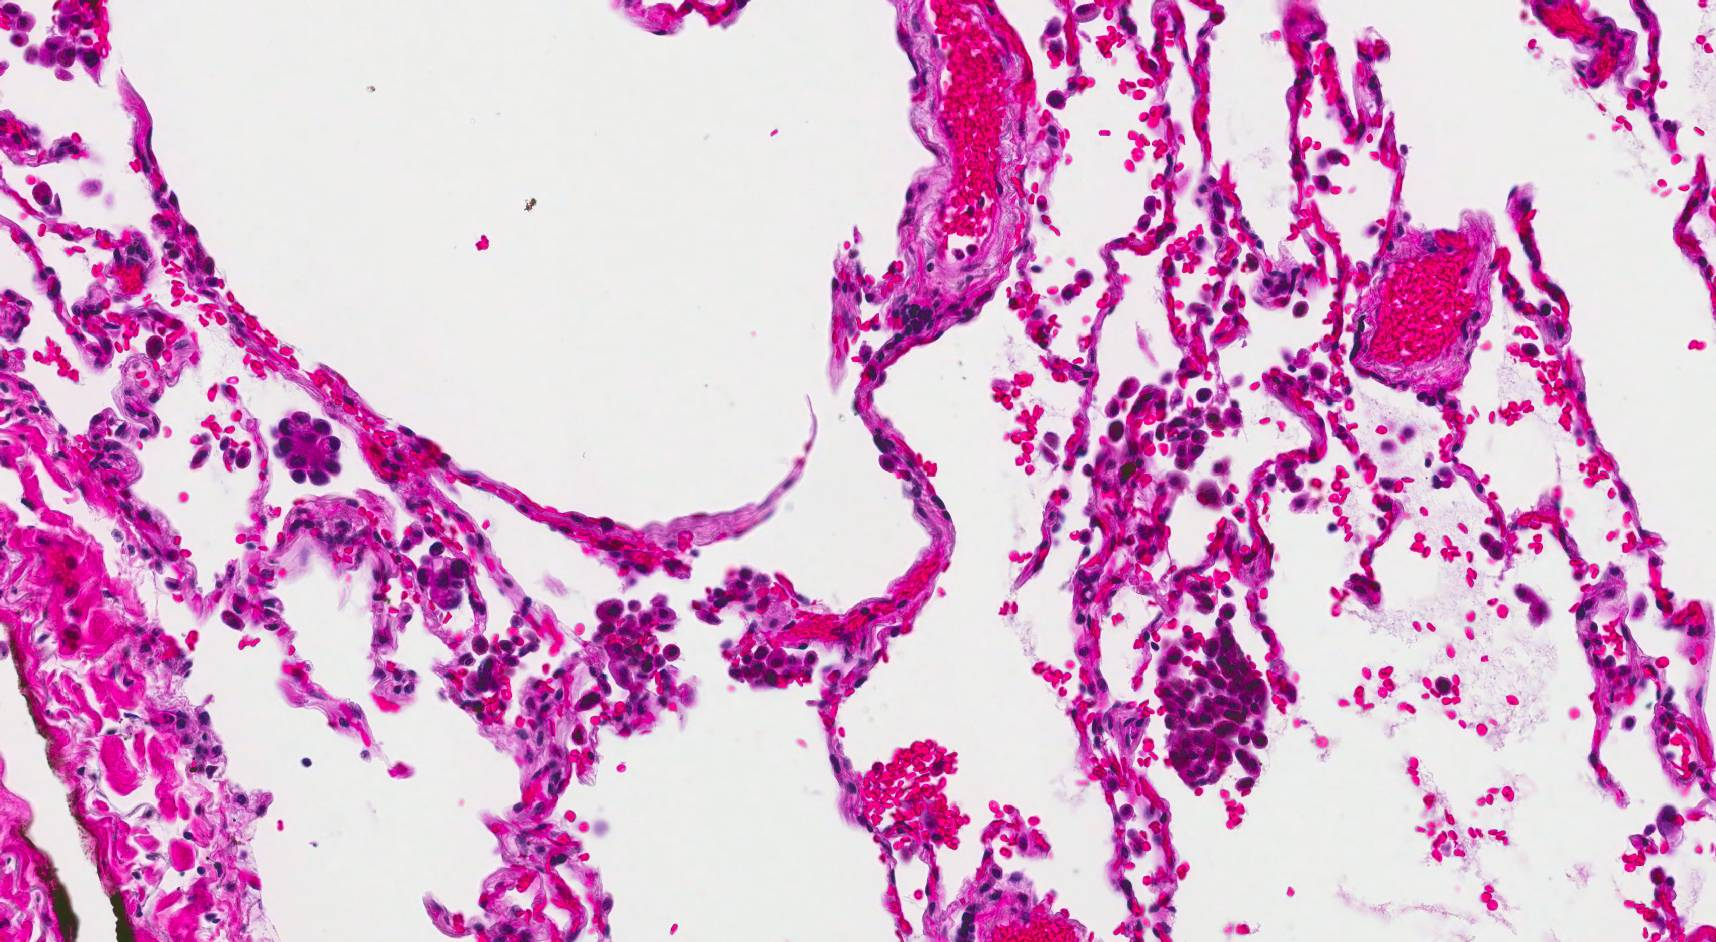stas: (268, 412, 351, 484), (414, 550, 471, 611)
